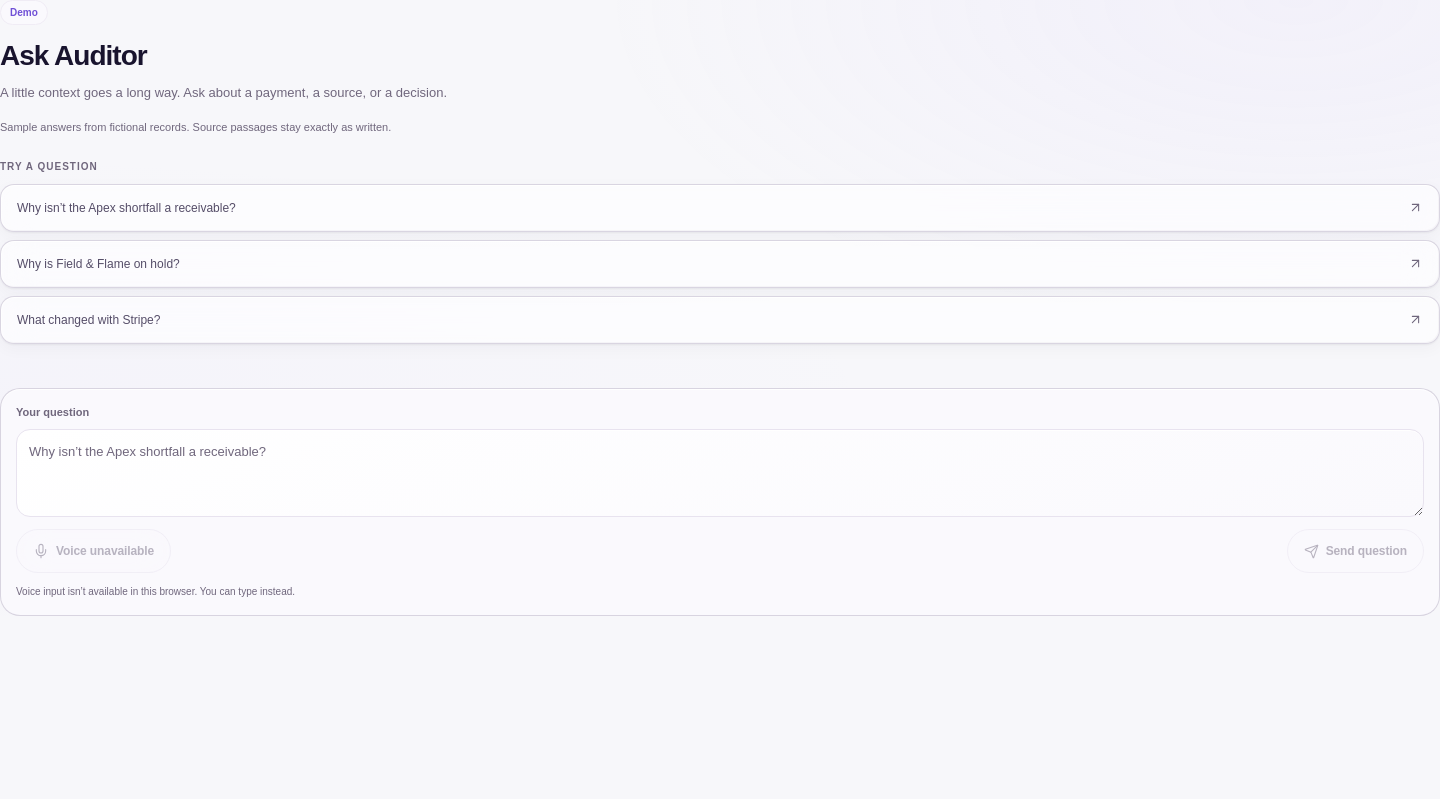
source-backed answers and workspace boundaries › lets a suggestion fill an editable draft, then sends only after an explicit click
Click the button "Why isn’t the Apex shortfall a receivable?": [126, 208] box [0,184,1439,232]
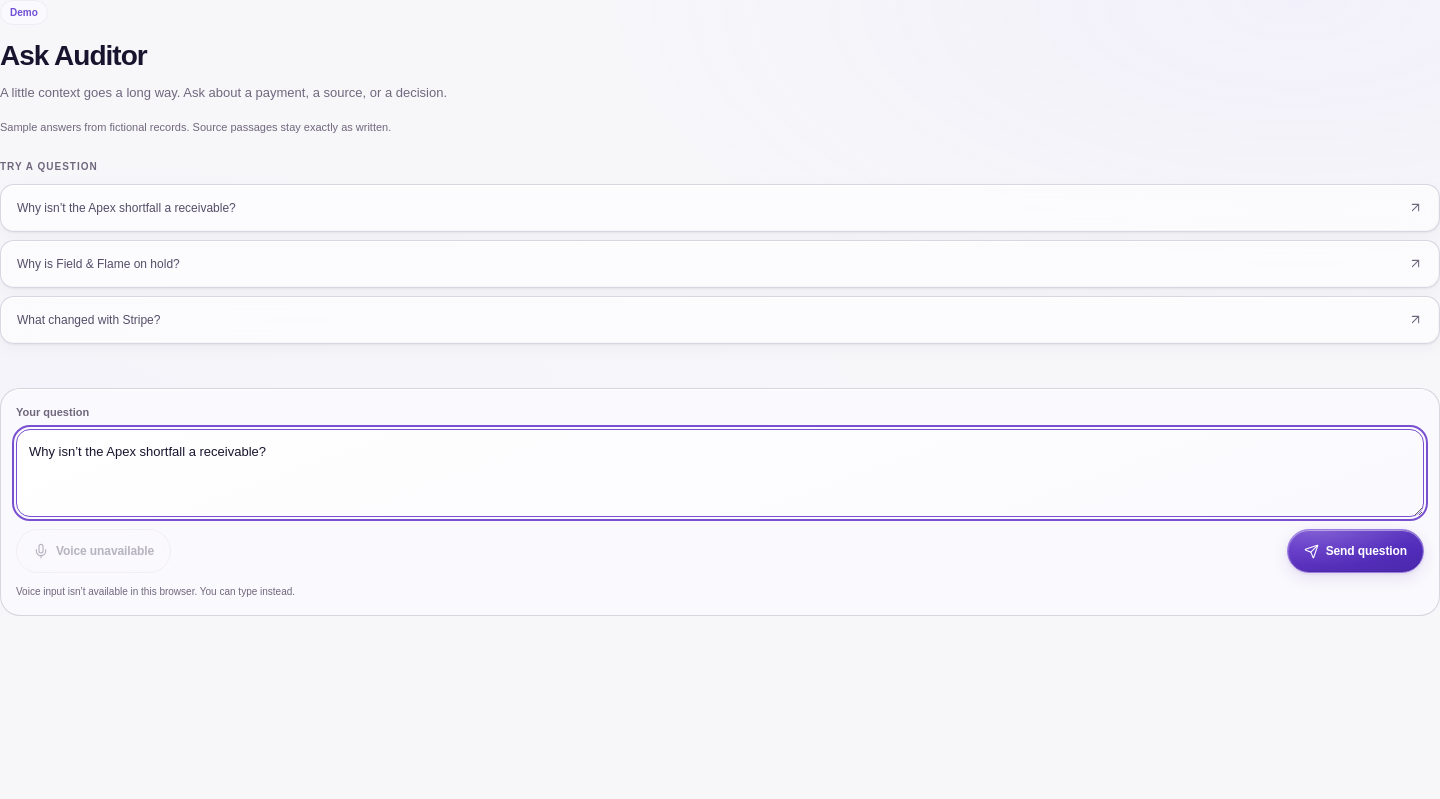
Expected: the text "sample answer" is not shown
Expected: the text box labelled "Your question" holds "Why isn’t the Apex shortfall a receivable?", [16,429,1424,517]
Click the button "Send question": [1355, 551] box [1287,529,1424,573]
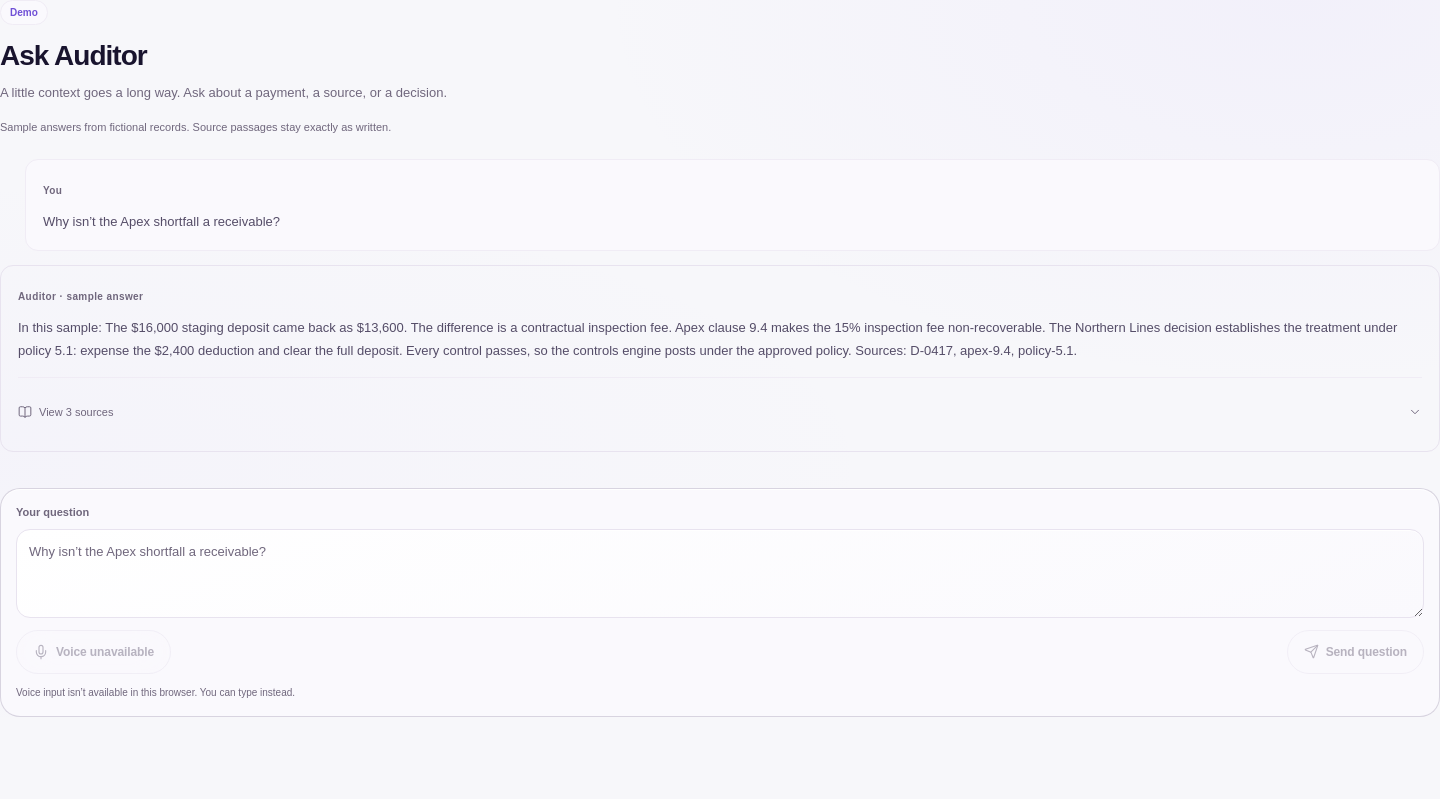
Expected: the text "Auditor · sample answer" is shown, [18,291,143,302]
Click the heading "View 3 sources": [94, 412] box [18,405,1422,419]
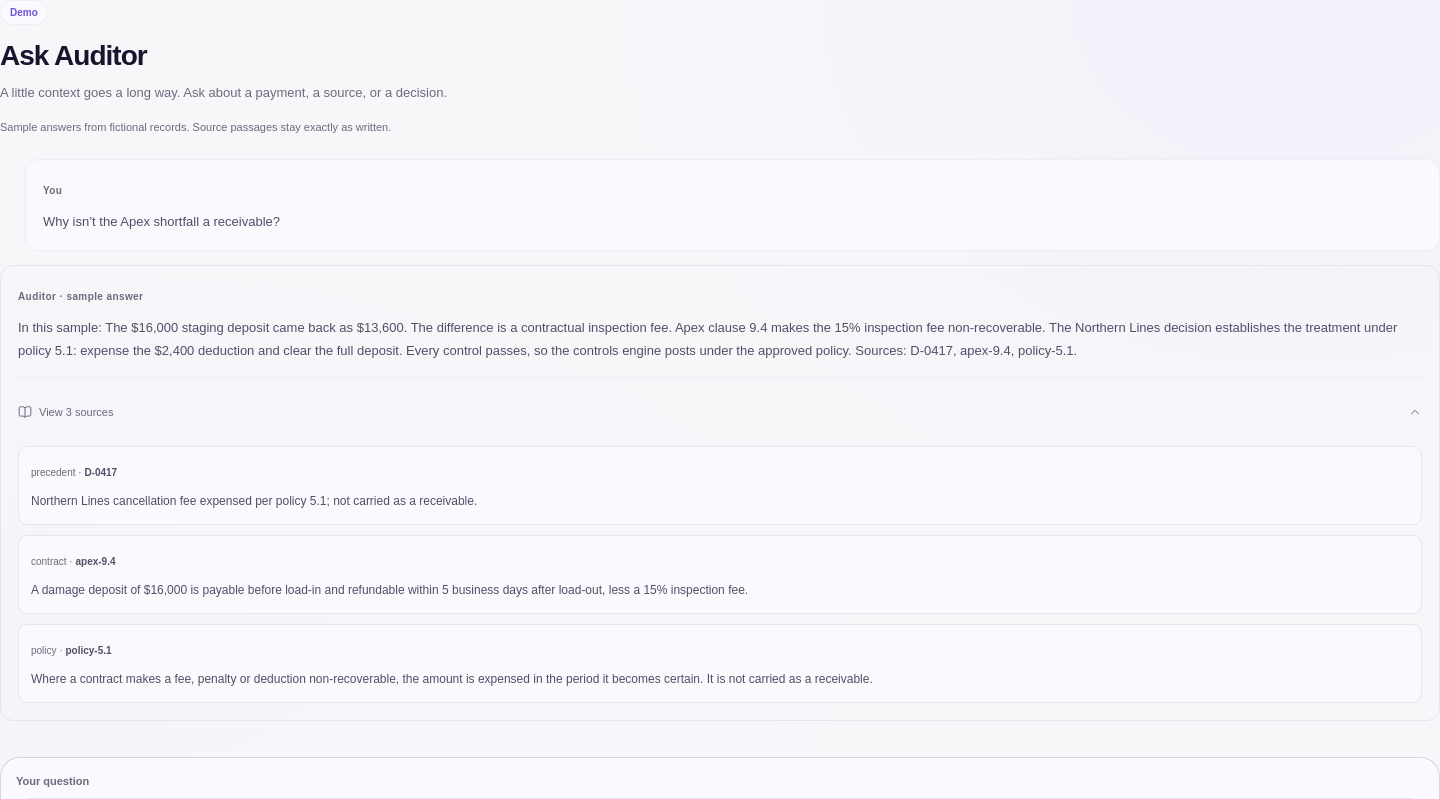
Expected: the text "apex-9.4" is shown, [76,556,116,567]
Expected: the text "A damage deposit of $16,000 is payable before load-in and refundable within 5 business days after load-out, less a 15% i" is shown, [31,583,748,597]
